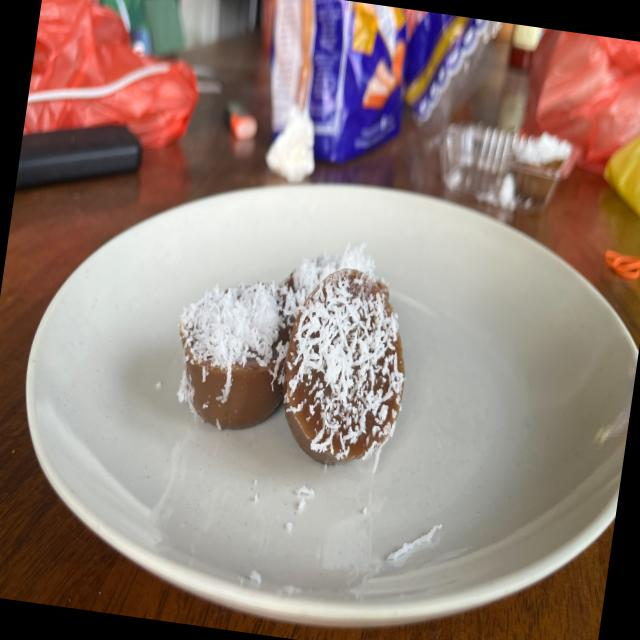Kuih lompang: (284, 268, 405, 464), (178, 282, 291, 430)
